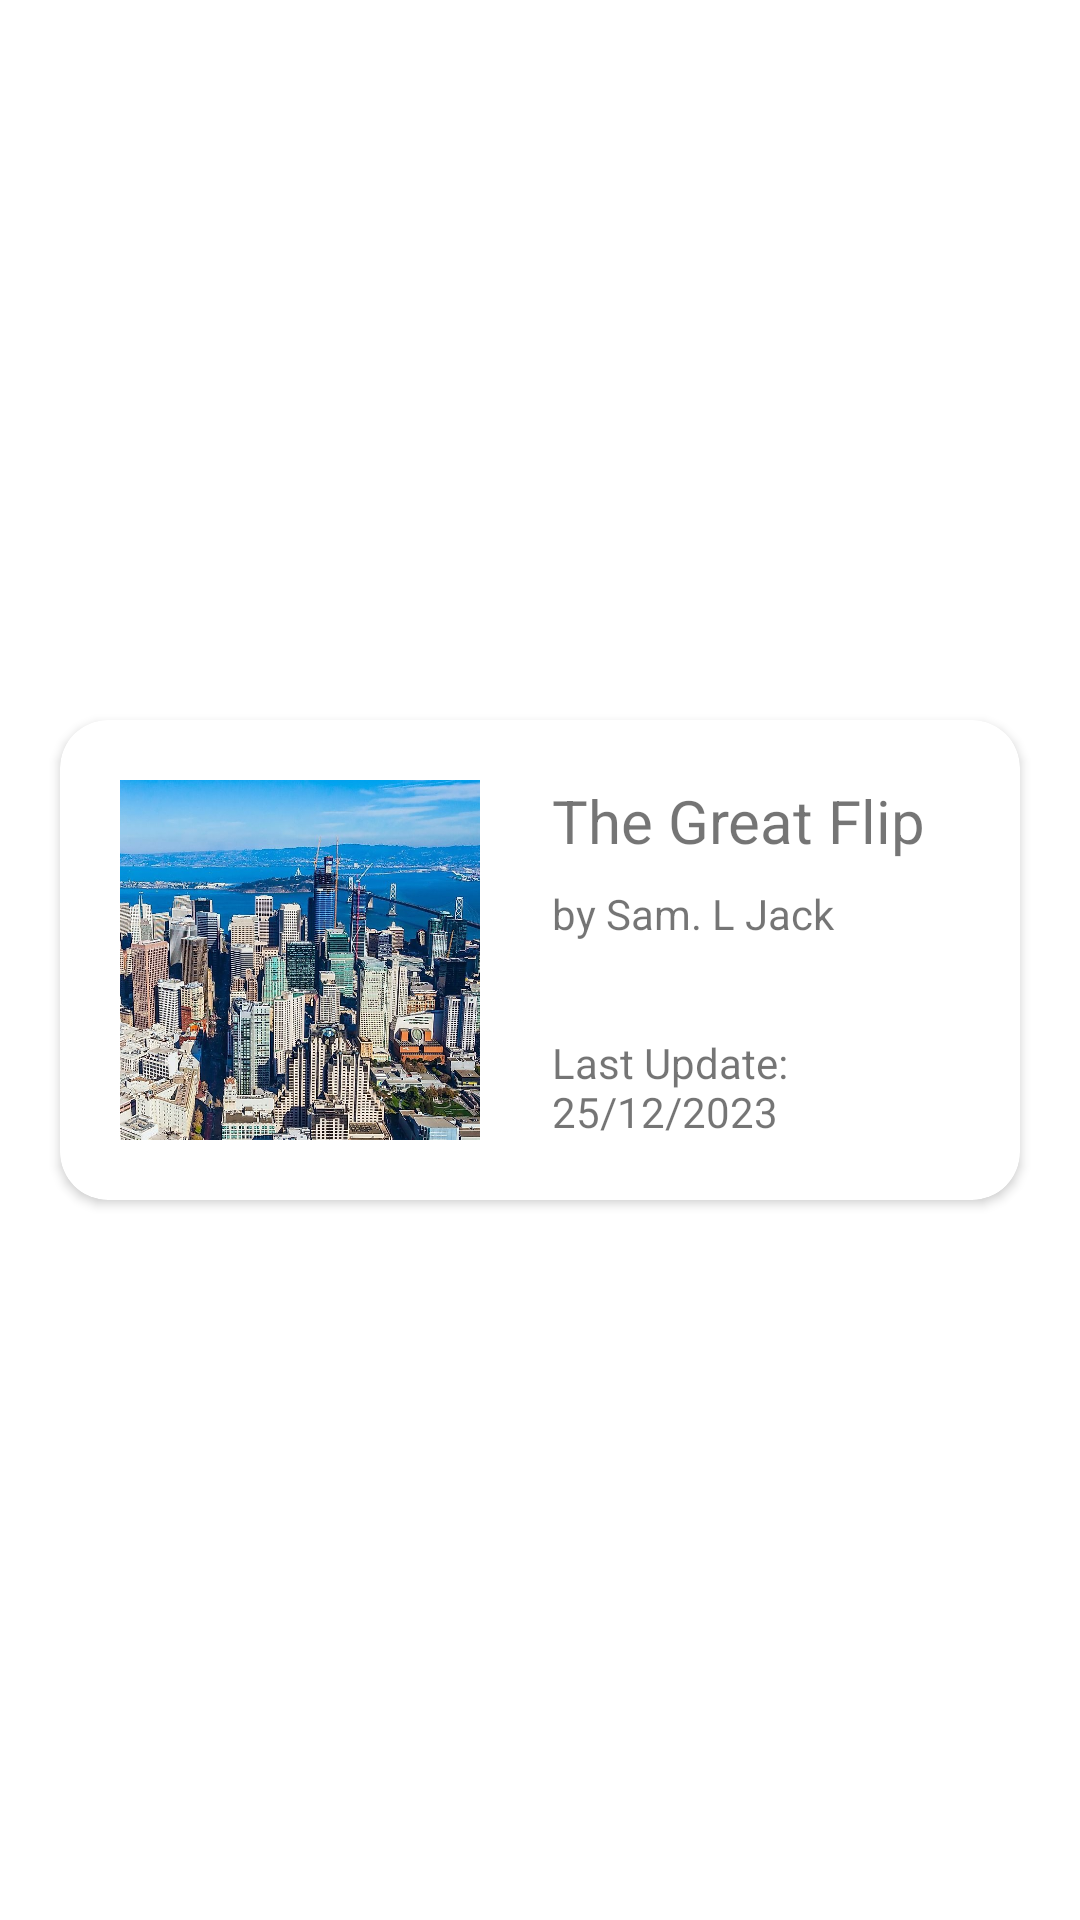

Named icons in this screenshot (1080px x 1920px) and their bounding boxes, (x1, y1, x2, y2):
sanfran: (120, 780, 480, 1140)
